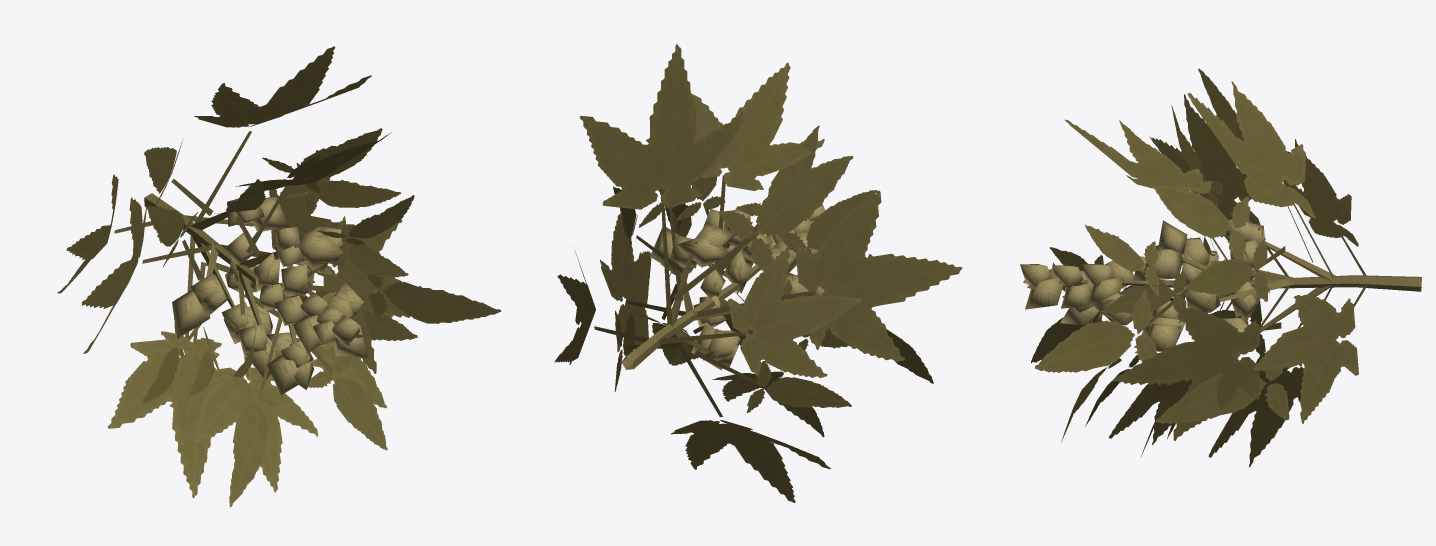
File: p_male_auto_flowering_c2_cards.obj
3 views of the same model, side by side, from view 1: azimuth 30°, elevation 25°; view 2: azimuth 150°, elevation 25°; view 3: azimuth 270°, elevation 25° (orthographic).
Bounding box in the file's own units: 1.18 × 1.39 × 0.986.
1 material, 1 textured.
